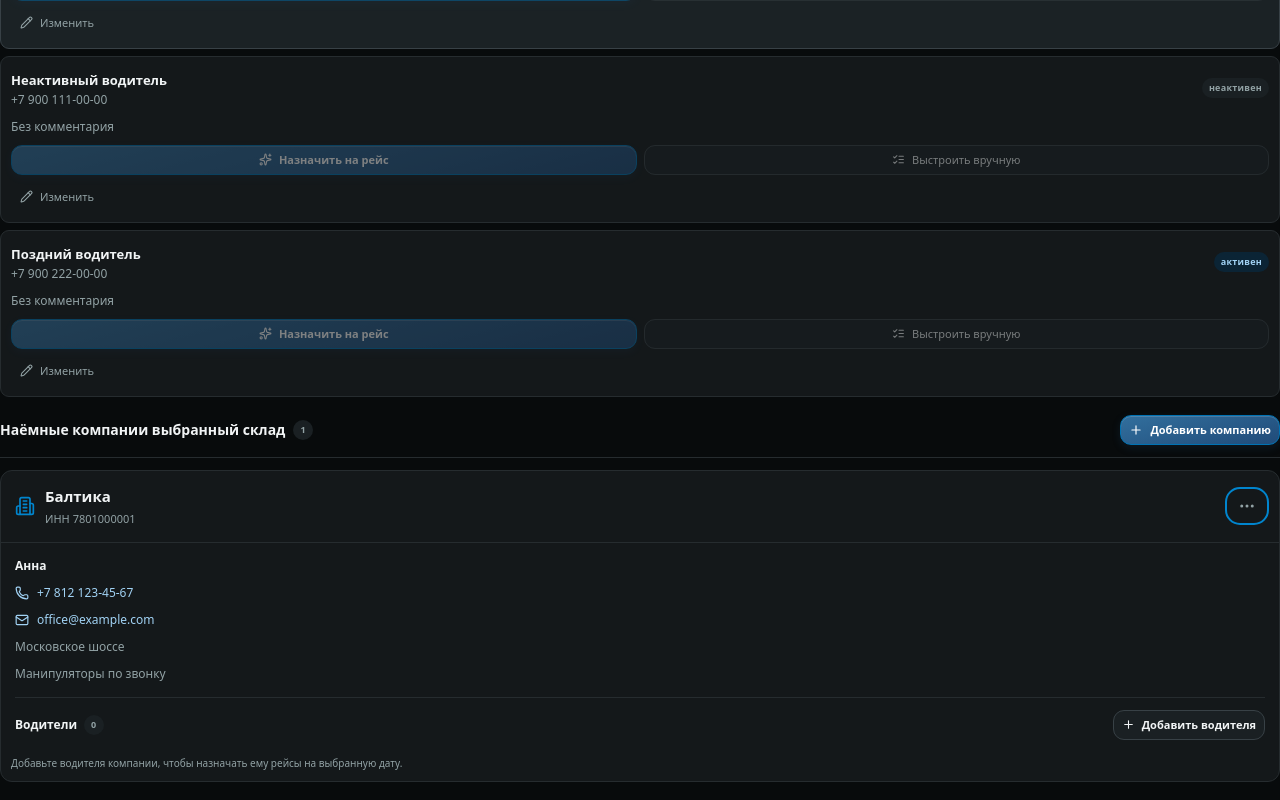
Test case: contractor assignment dialog › opens company actions from the keyboard and refreshes contacts after a version conflict
(page scrolled)
Press Arrowdown End Enter
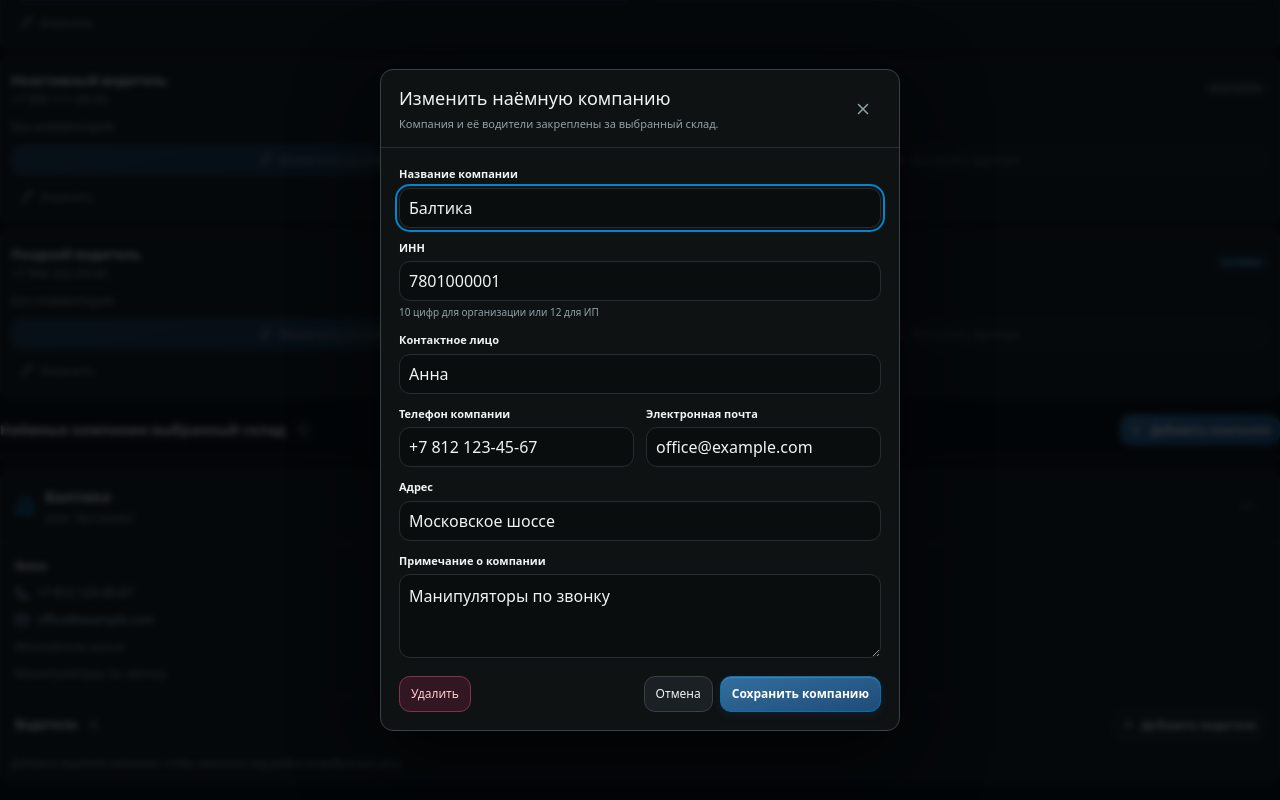
Replace the text in the field labelled "Название компании" with "Север": (640, 208) [399, 188, 881, 228]
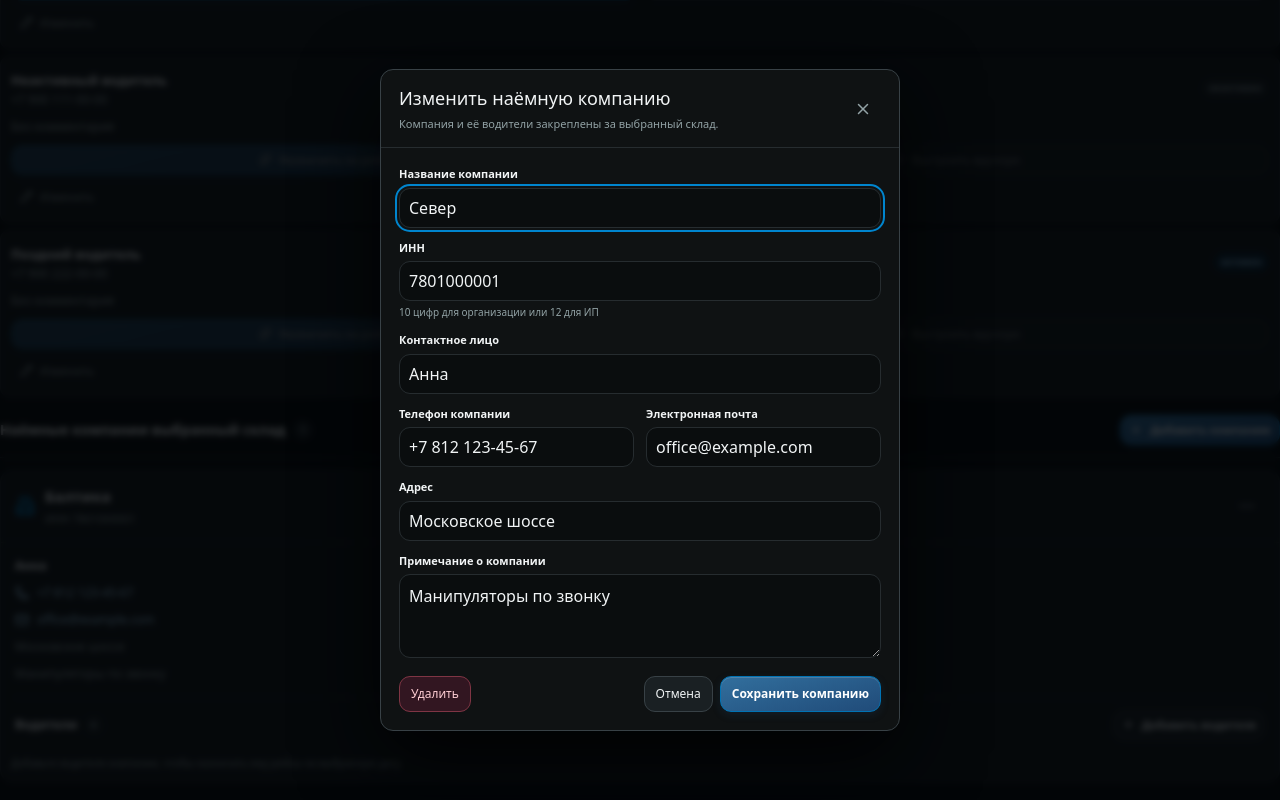
Click the button "Сохранить компанию": (800, 694) [720, 676, 881, 712]
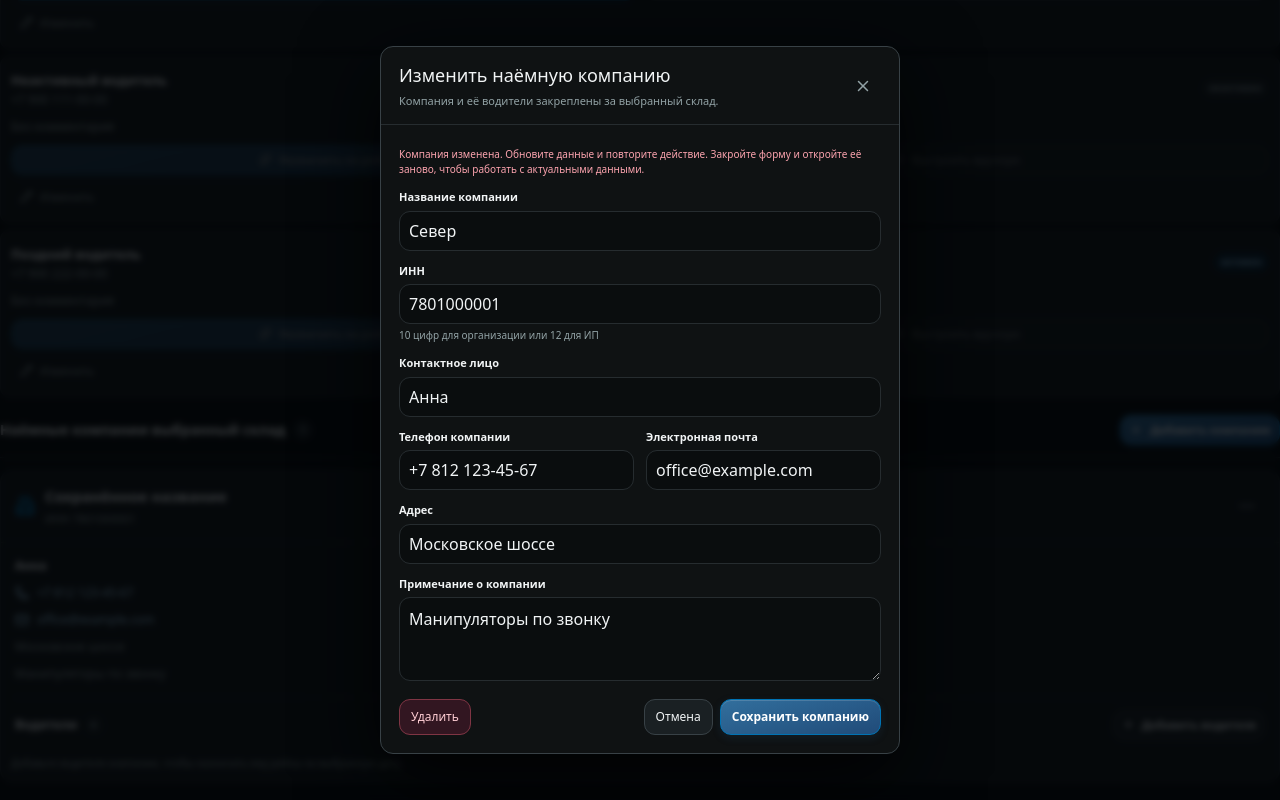
Result: the message shows "Закройте форму" at [399, 147, 861, 176]
Click the button "Отмена": (678, 717) [644, 699, 713, 735]
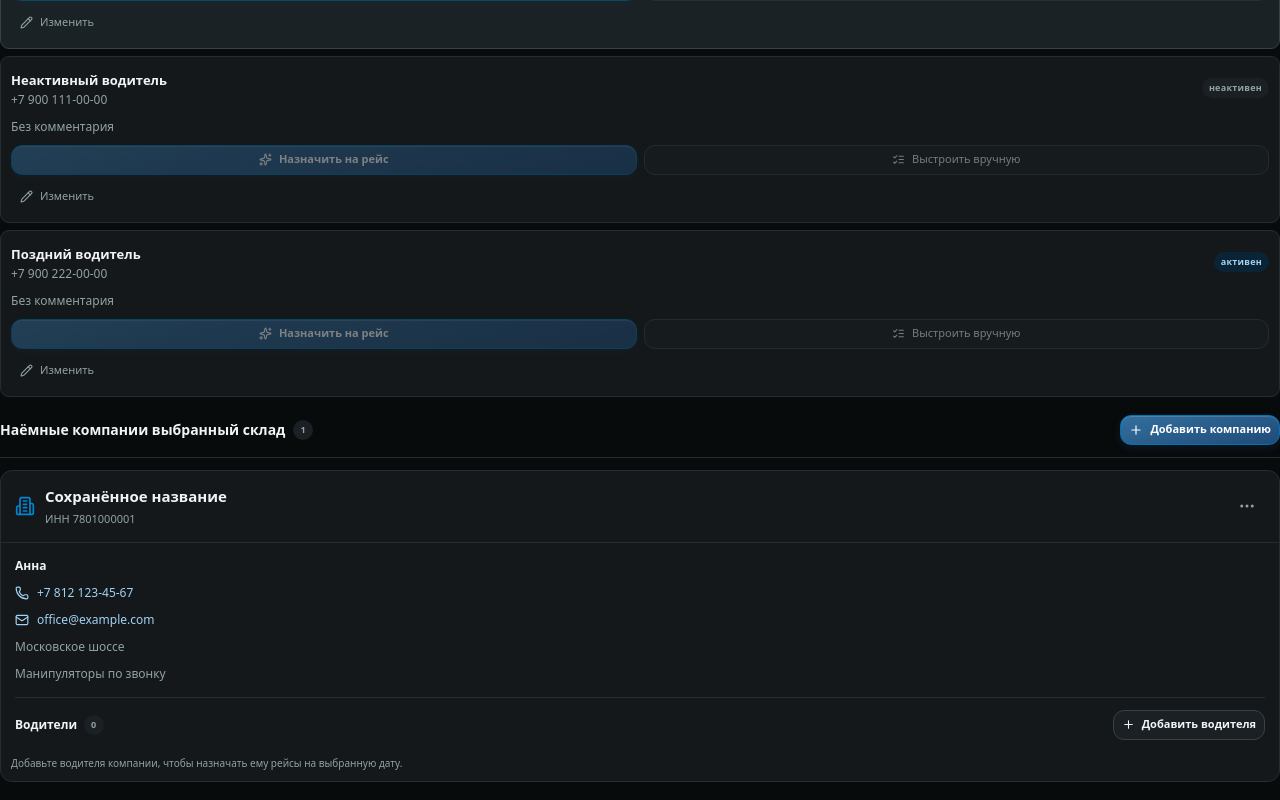
Click the button named "Действия компании Сохранённое название": (1247, 506) [1229, 491, 1265, 521]
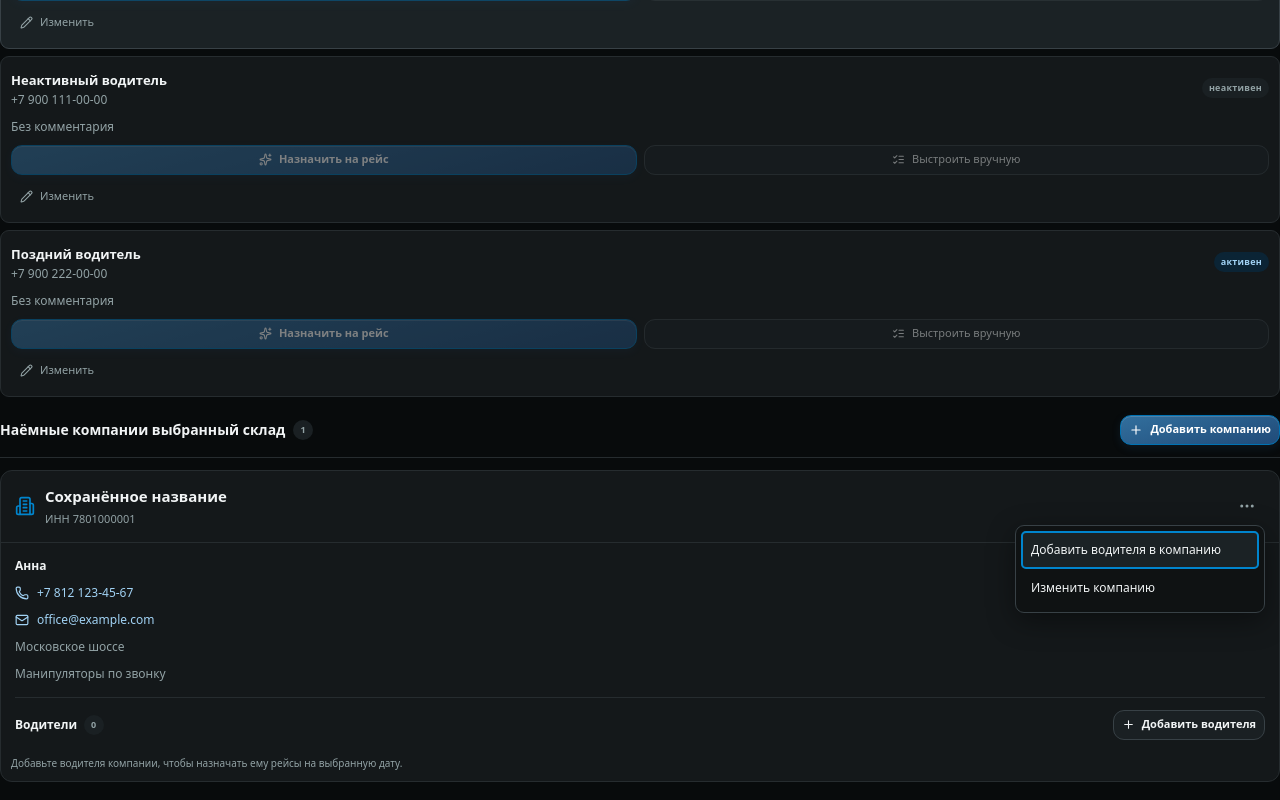
Click the menu item "Изменить компанию": (1140, 588) [1021, 569, 1259, 607]
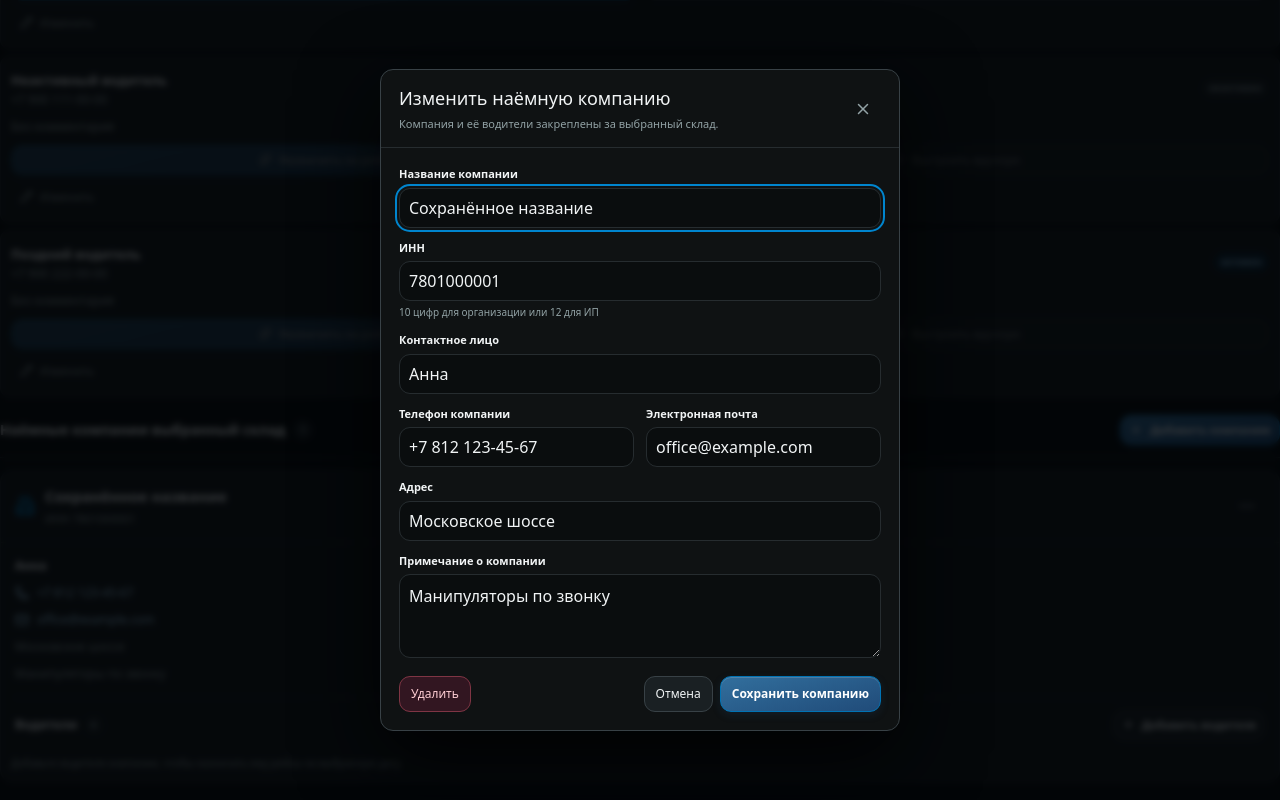
Result: the field labelled "Название компании" holds "Сохранённое название" at [399, 188, 881, 228]
